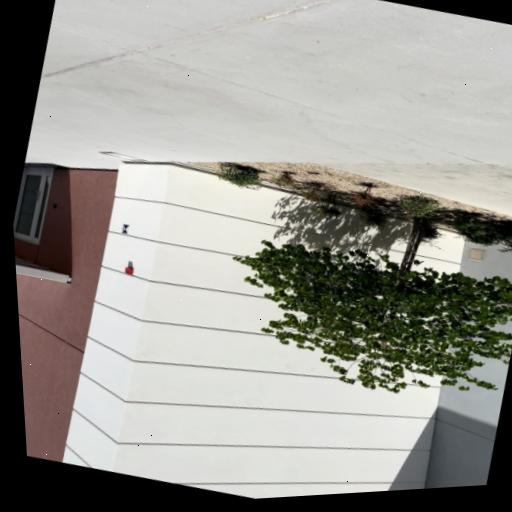target2: (120, 224, 130, 234)
